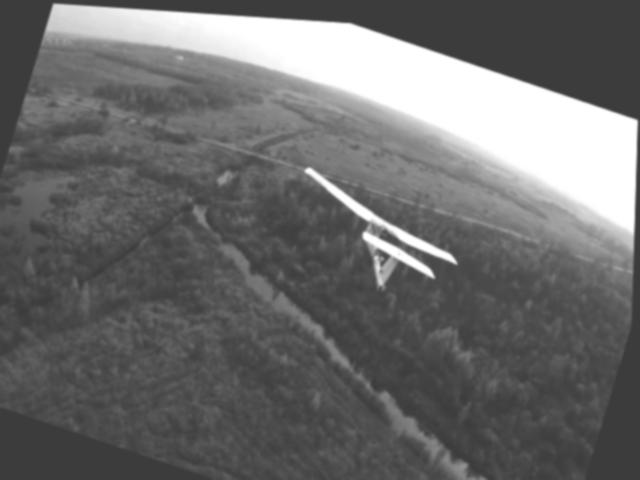hedef: (277, 147, 477, 315)
